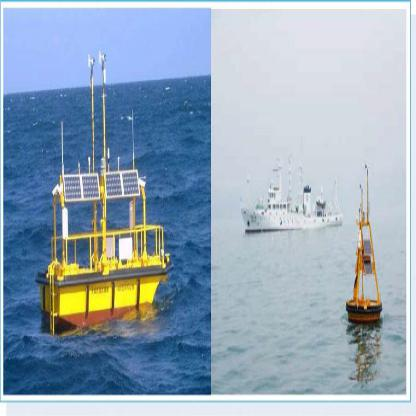buoy: (34, 43, 182, 352), (342, 145, 387, 366)
